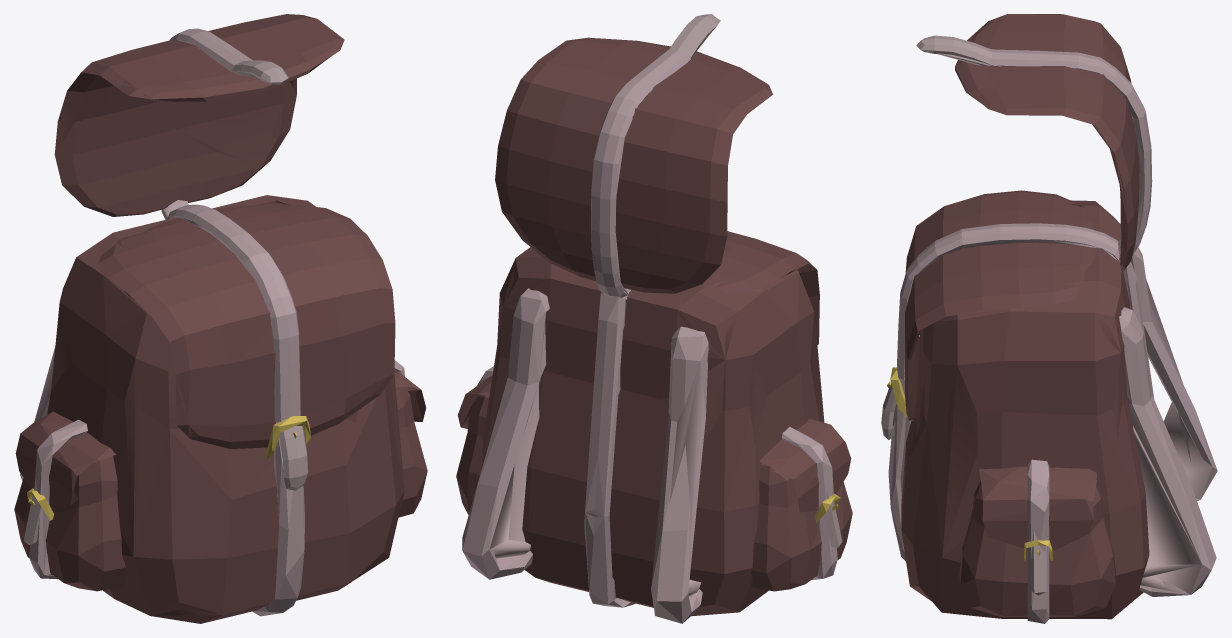
File: item_backpack_pink.glb
The picture shows the model from 3 angles, left to right: view 1: azimuth 30°, elevation 25°; view 2: azimuth 150°, elevation 25°; view 3: azimuth 270°, elevation 25°; orthographic projection. The views are drawn at different scales.
Visible parts, largest first — view 1: Backpack.002 (×2), Backpack; view 2: Backpack, Backpack.002 (×2); view 3: Backpack, Backpack.002 (×2).
Part boxes in pixels (left/top/right/bottom): Backpack.002 (×2): left=54, top=14, right=395, bottom=490; Backpack: left=14, top=195, right=427, bottom=623; Backpack: left=456, top=247, right=852, bottom=623; Backpack.002 (×2): left=495, top=14, right=819, bottom=344; Backpack: left=887, top=200, right=1217, bottom=623; Backpack.002 (×2): left=881, top=14, right=1152, bottom=439.
Bounding box in the file's own units: 0.5338 × 0.7229 × 0.4031.
Materials: 1 (1 with a texture image).
